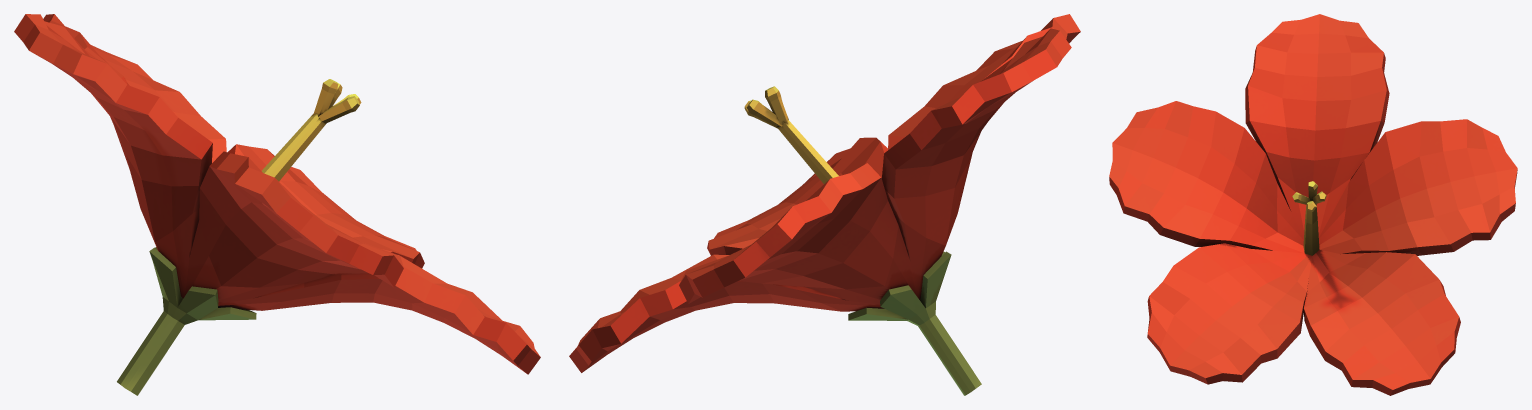
The model's file is flower_parts.glb.
3 views of the same model, side by side, from view 1: azimuth 30°, elevation 25°; view 2: azimuth 150°, elevation 25°; view 3: azimuth 270°, elevation 25° (orthographic). The views are drawn at different scales.
Visible parts, largest first — view 1: hibiscus_flower; view 2: hibiscus_flower; view 3: hibiscus_flower.
Boxes of the visible parts, box(x1,y1,x2,y2) form: hibiscus_flower: box(14, 14, 540, 395); hibiscus_flower: box(569, 14, 1080, 395); hibiscus_flower: box(1109, 14, 1517, 395).
Size of the model in its own units: 1.3 by 1.09 by 1.6.
Materials: 3 (3 with a texture image).
